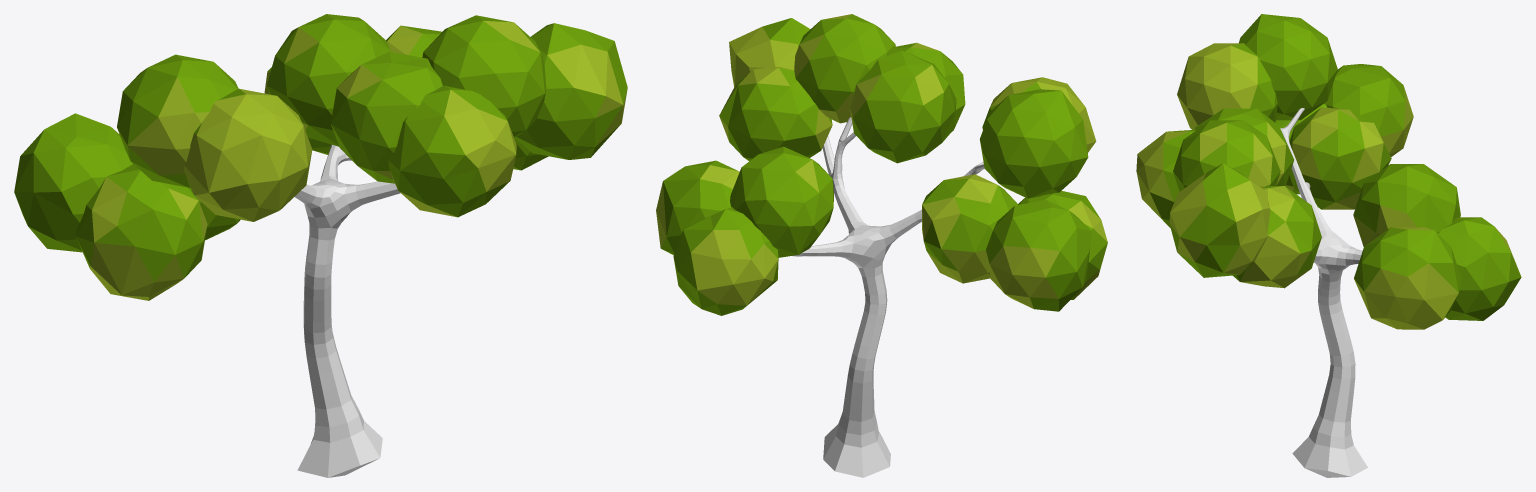
The model's file is Tree1.fbx.
The picture shows the model from 3 angles, left to right: view 1: azimuth 30°, elevation 25°; view 2: azimuth 150°, elevation 25°; view 3: azimuth 270°, elevation 25°; orthographic projection. The views are drawn at different scales.
Parts seen in each view (by area): view 1: Icosphere, Cube; view 2: Icosphere, Cube; view 3: Icosphere, Cube.
Boxes of the visible parts, x1=… form: Icosphere: x1=14, y1=14, x2=627, y2=300; Cube: x1=294, y1=144, x2=400, y2=477; Icosphere: x1=656, y1=14, x2=1107, y2=315; Cube: x1=792, y1=117, x2=984, y2=477; Icosphere: x1=1136, y1=14, x2=1521, y2=329; Cube: x1=1280, y1=108, x2=1367, y2=477.
Bounding box in the file's own units: 877 × 788 × 715.
